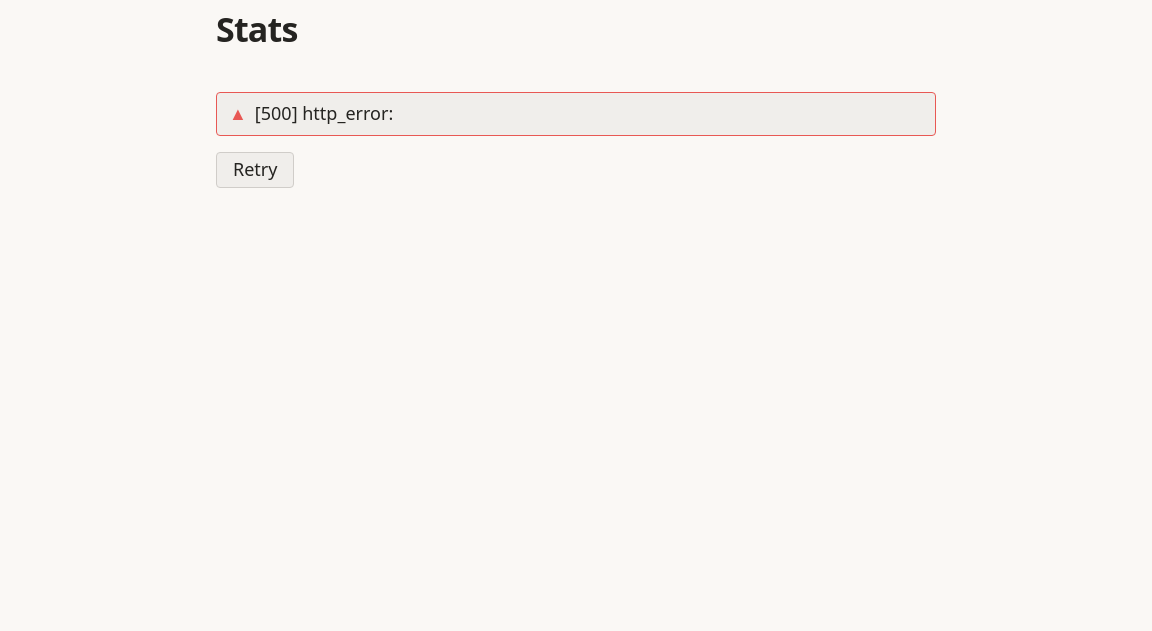
Test: StatsPage — state machine › Retry refetches /api/stats/me — recovers from transient failure
Click the button "Retry".
click(255, 170)  # box [216,152,294,188]
(page scrolled)
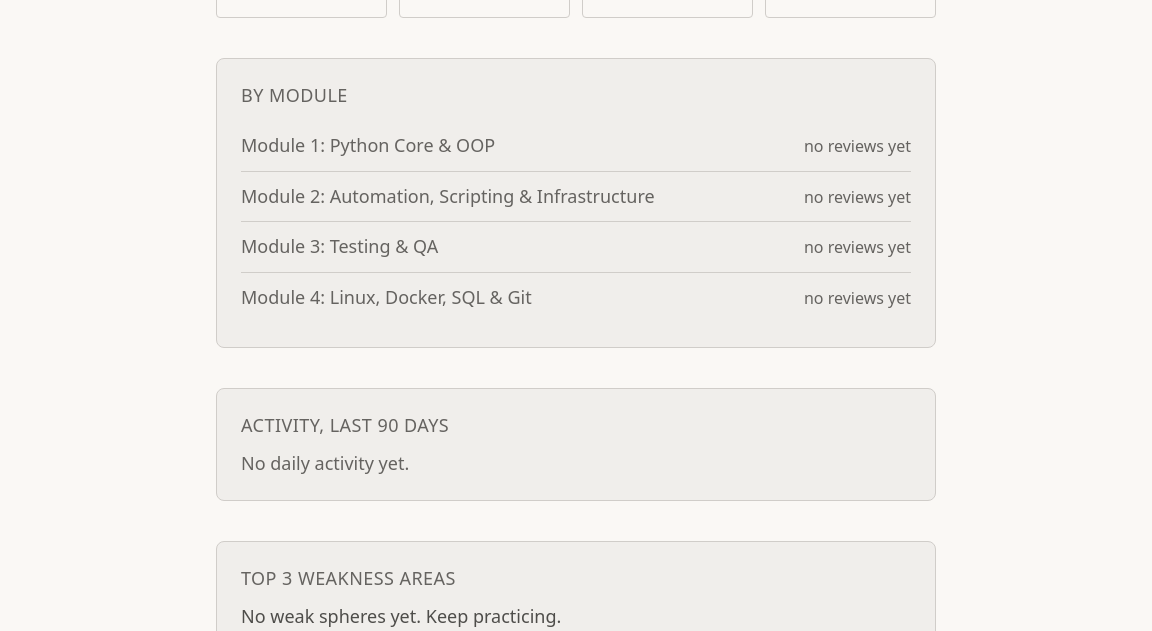
Expected: the message "▲ [500] http_error:" is gone
